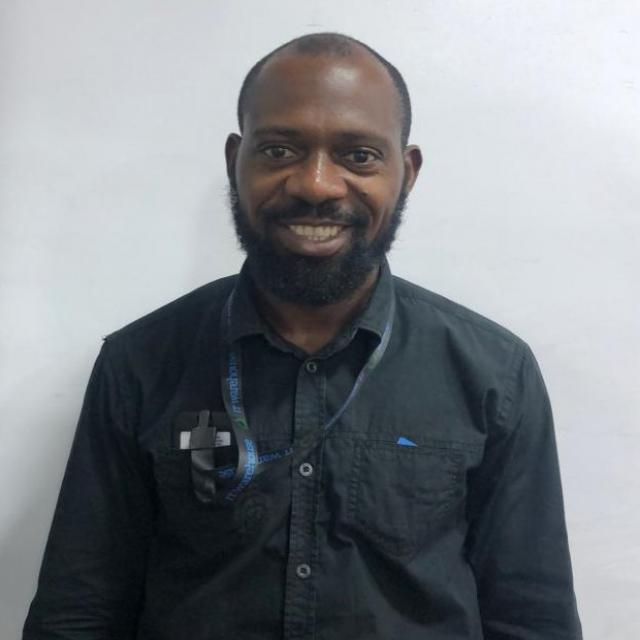happy: (217, 26, 425, 308)
